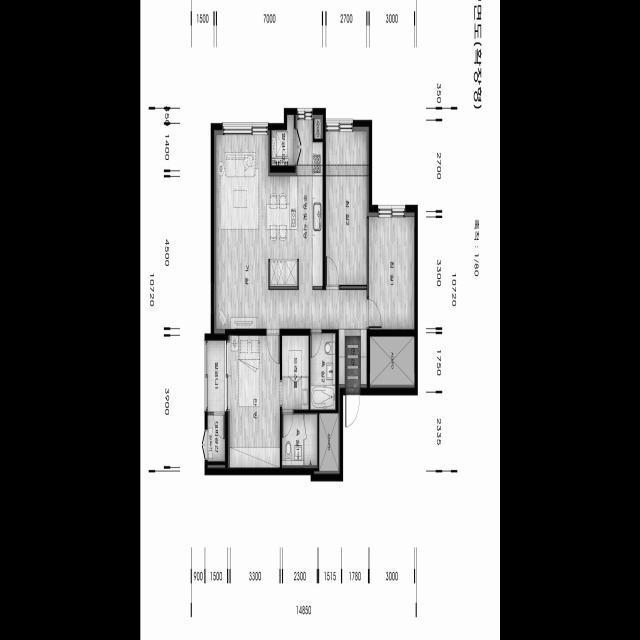background: (140, 0, 500, 640)
space_balconi: (207, 340, 225, 412), (271, 115, 294, 166)
space_bedroom: (325, 127, 369, 285), (228, 335, 280, 468), (368, 212, 414, 330)
space_dressroom: (282, 336, 308, 410)
space_front: (338, 329, 366, 388)
space_kitchen: (268, 115, 322, 290)
space_living_room: (214, 130, 366, 334)
space_other: (370, 336, 414, 388), (319, 413, 339, 474), (314, 115, 323, 139), (207, 465, 225, 468)
space_outdoor_room: (207, 415, 225, 462)
space_toilet: (281, 413, 317, 468), (310, 333, 335, 410)
